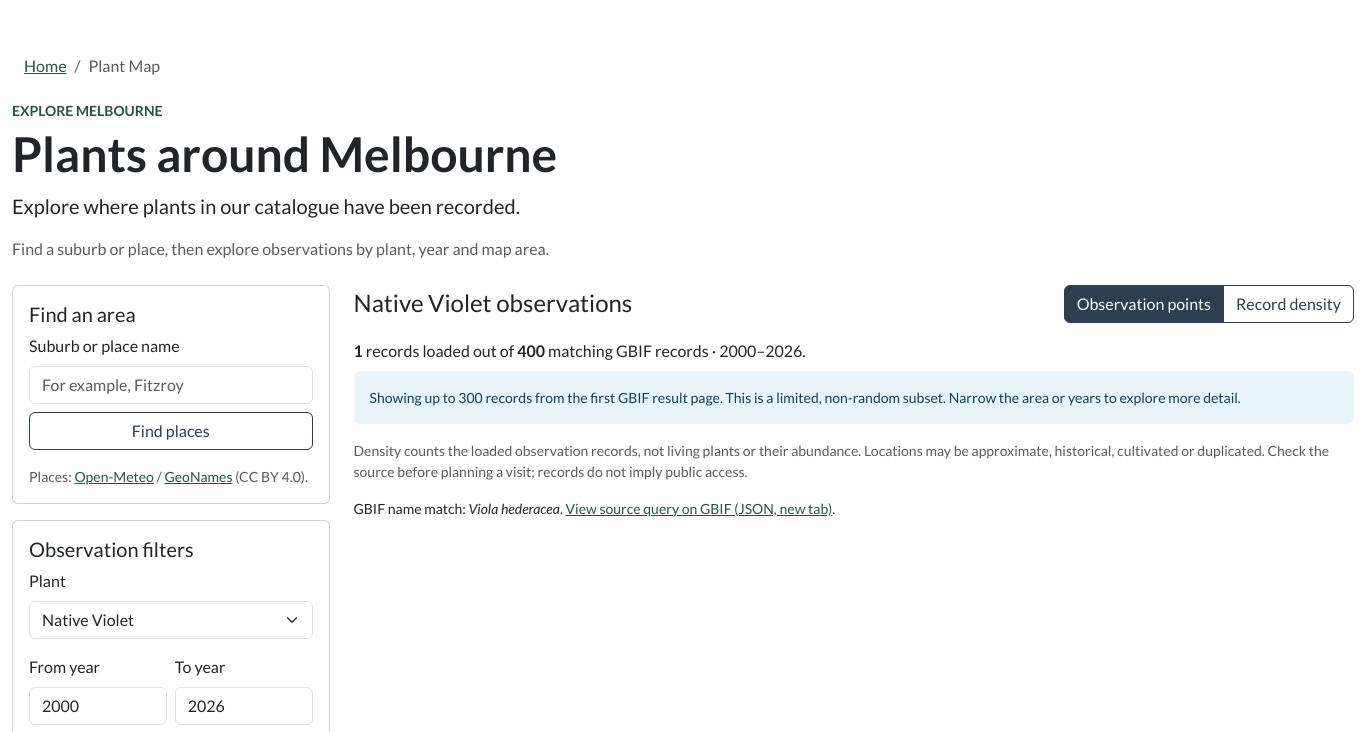
Test: plant map workflows › searches places on submission and recentres/queries when a result is chosen
Type "Fitzroy" into the search field with id "map-place" at (171,385), box [29,366,312,404]
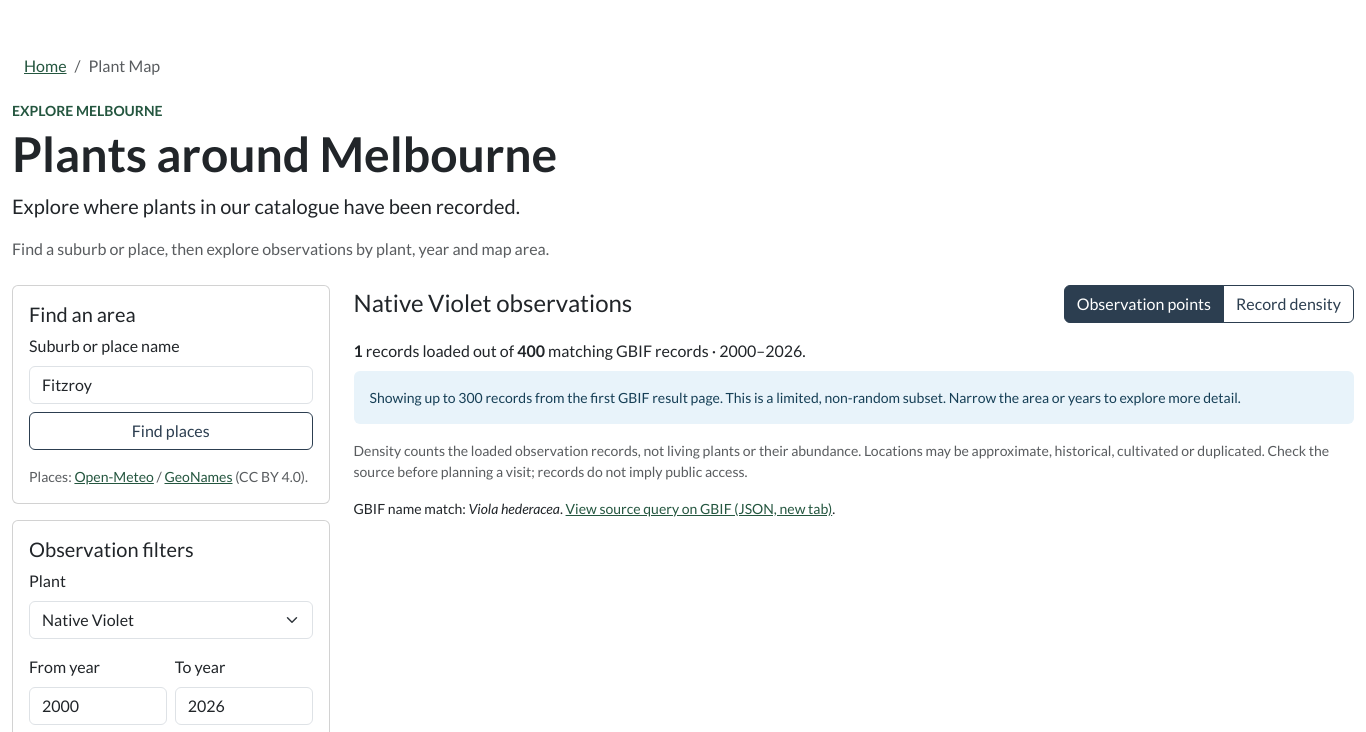
Submit the form "Suburb or place name Find places", box [29,334,312,450]
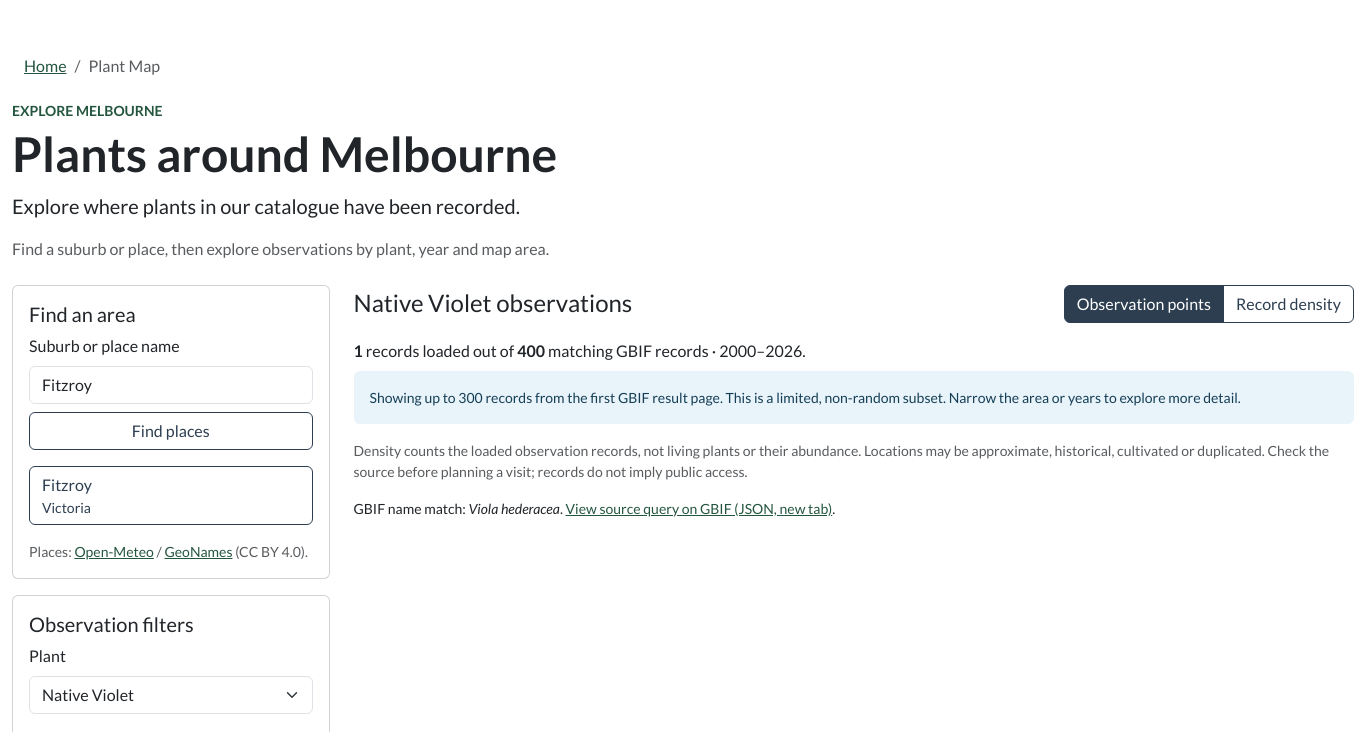
Click the button "Fitzroy Victoria" at (67,484), box [29,466,312,525]
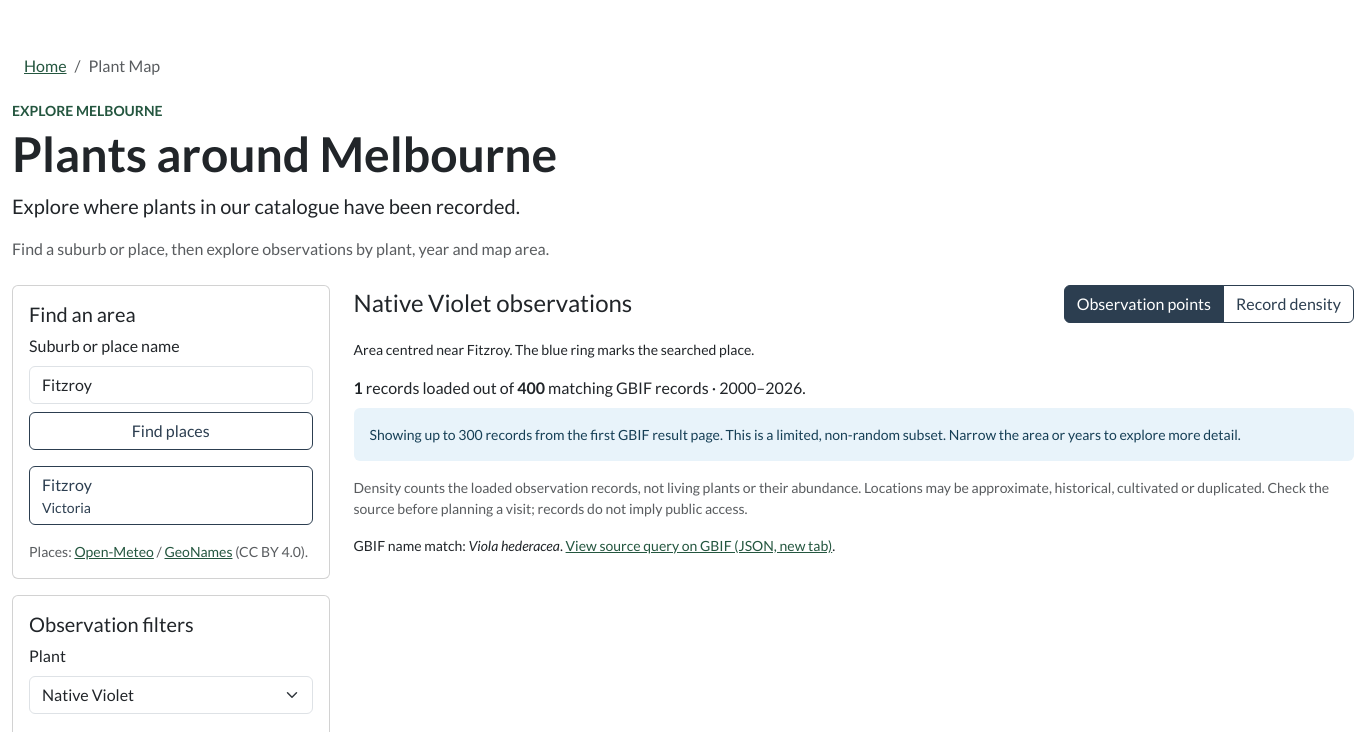
Expected: the text "Area centred near Fitzroy" is shown, [354,341,754,358]
